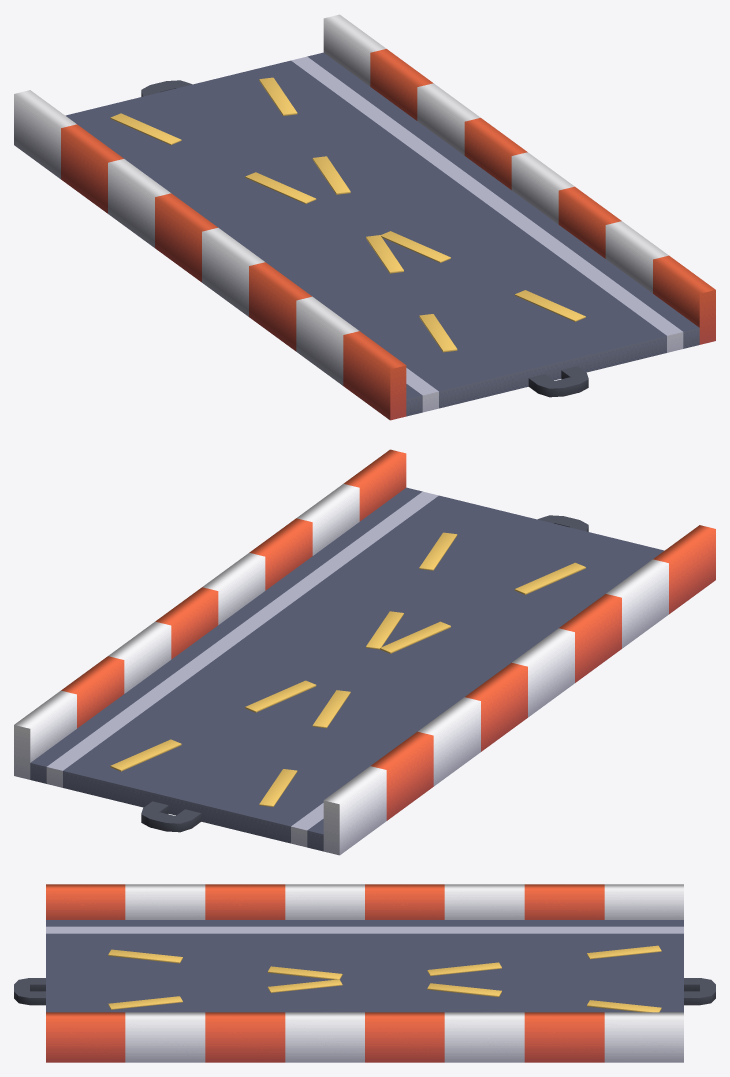
The model's file is agulha.glb.
3 views of the same model, one above another, from view 1: azimuth 30°, elevation 25°; view 2: azimuth 150°, elevation 25°; view 3: azimuth 270°, elevation 25° (orthographic). The views are drawn at different scales.
Visible parts, largest first — view 1: agulha; view 2: agulha; view 3: agulha.
Boxes of the visible parts, x1,y1,x2,y2 form: agulha: (14, 14, 715, 420); agulha: (14, 449, 715, 855); agulha: (14, 884, 715, 1062).
Size of the model in its own units: 2 by 0.3 by 4.4.
Materials: 2 (1 with a texture image).
